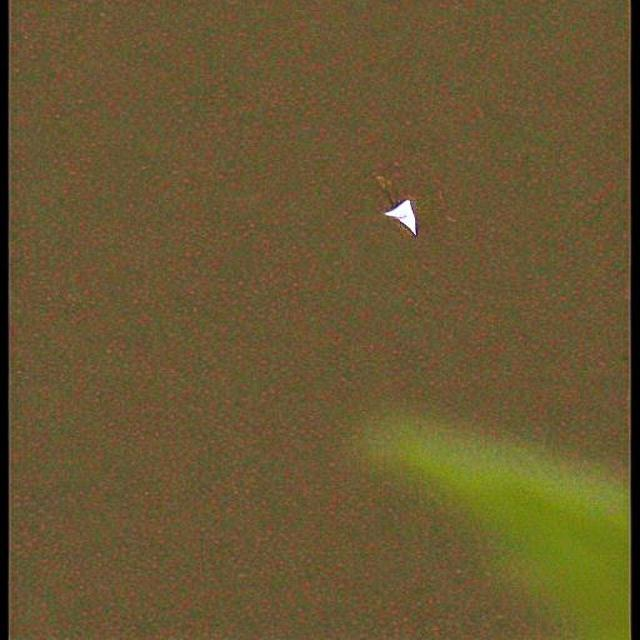floating object: (380, 198, 420, 238)
